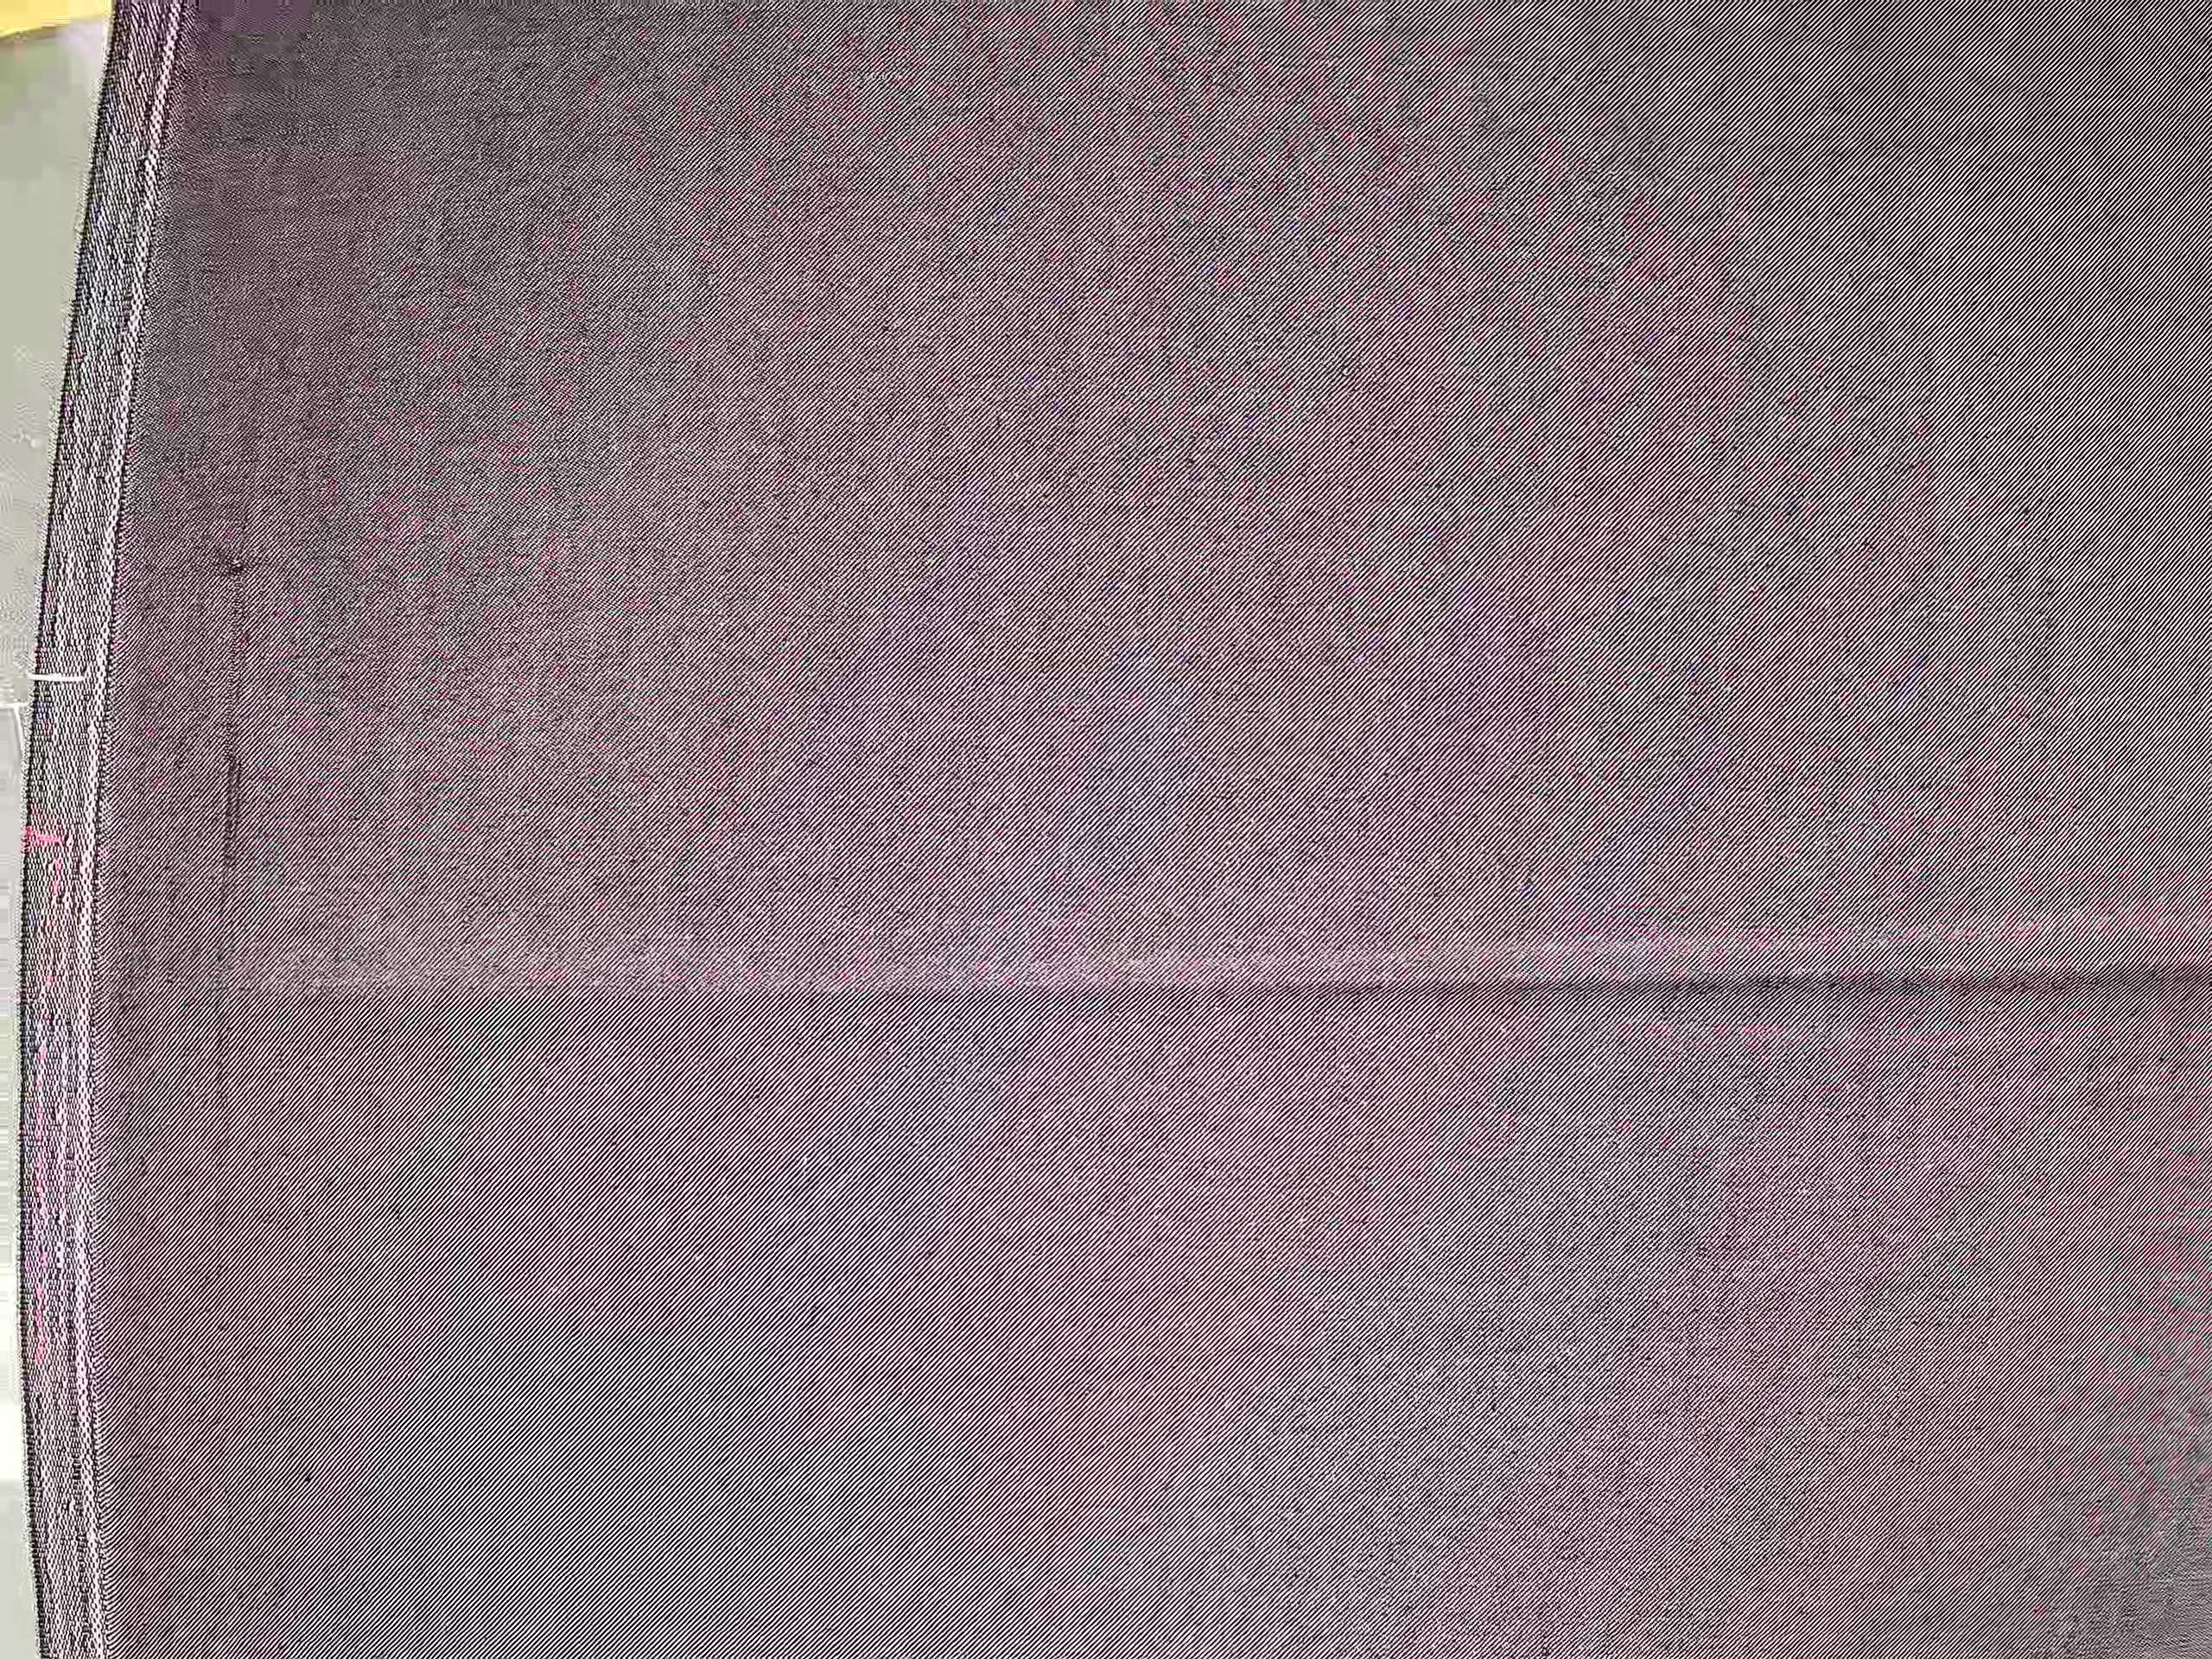hanging-warp: (185, 120, 300, 1319)
